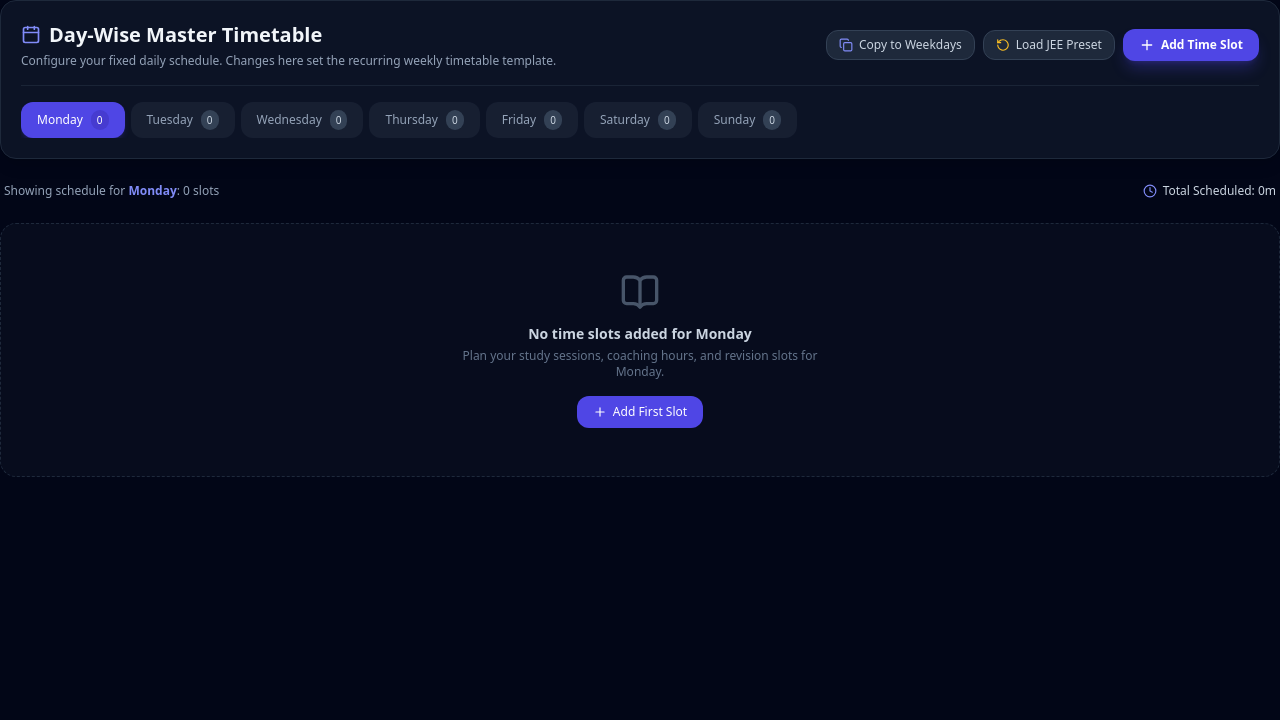
Test case: TimetablePlanner Component › opens add time slot modal when clicked
Click the button "Add Time Slot". click: (1191, 45)
box: [1123,29,1259,61]
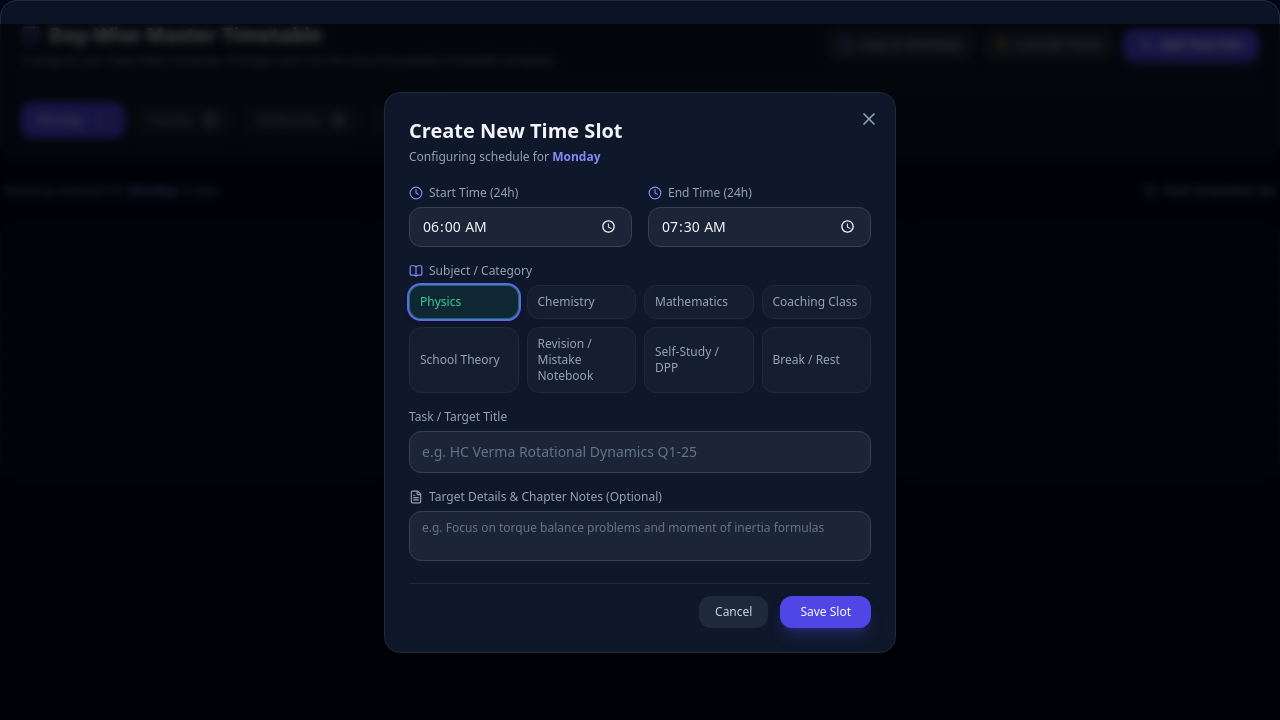
Now the heading "Create New Time Slot" is shown, box [409,116,622,144]
